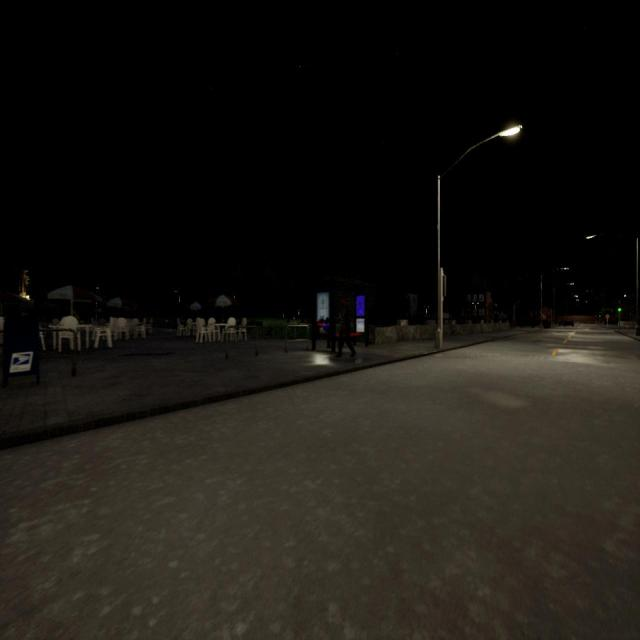Pedestrian: (336, 298, 356, 356)
Traffic_Signs: (605, 314, 610, 319)
Vehicle: (563, 319, 574, 327)
traffic_light: (442, 275, 447, 297), (618, 303, 621, 313), (599, 313, 601, 318)
